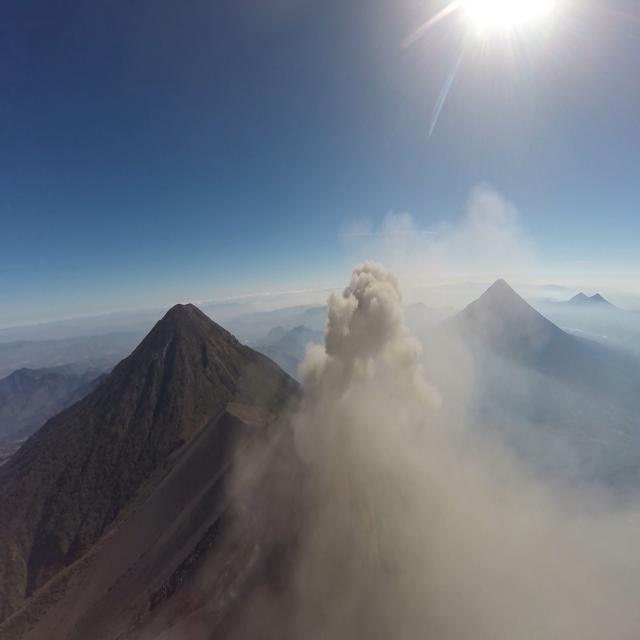Plume: (271, 240, 634, 640), (282, 257, 440, 499)
